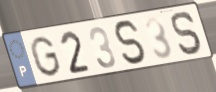2: (59, 29, 93, 76)
3: (144, 15, 173, 61), (88, 24, 117, 69)
G: (28, 35, 64, 78)
S: (112, 18, 150, 67), (170, 9, 205, 56)
